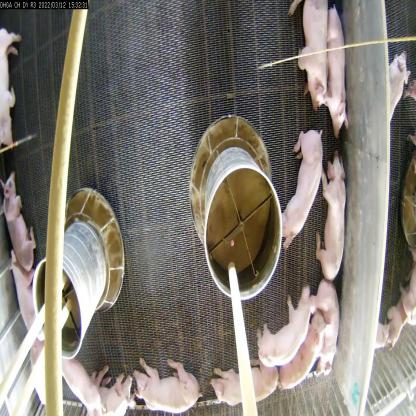Pig: (282, 122, 325, 249), (255, 281, 314, 363), (316, 147, 349, 284), (287, 0, 327, 113), (0, 163, 41, 271), (134, 353, 203, 416), (210, 356, 281, 416), (321, 10, 354, 136), (308, 270, 346, 376), (0, 15, 27, 154), (12, 258, 48, 358), (282, 313, 328, 391), (83, 370, 136, 415), (65, 356, 100, 416)
